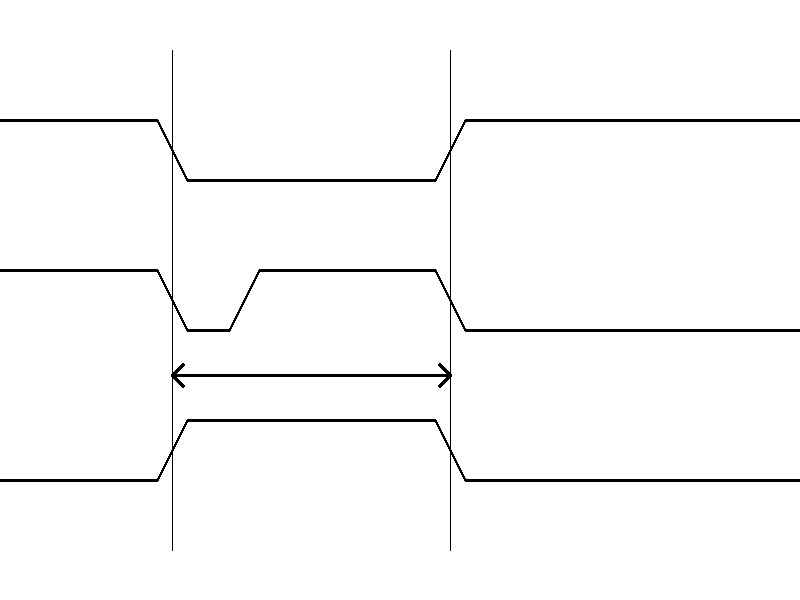double_arrow: (172, 360, 450, 390)
